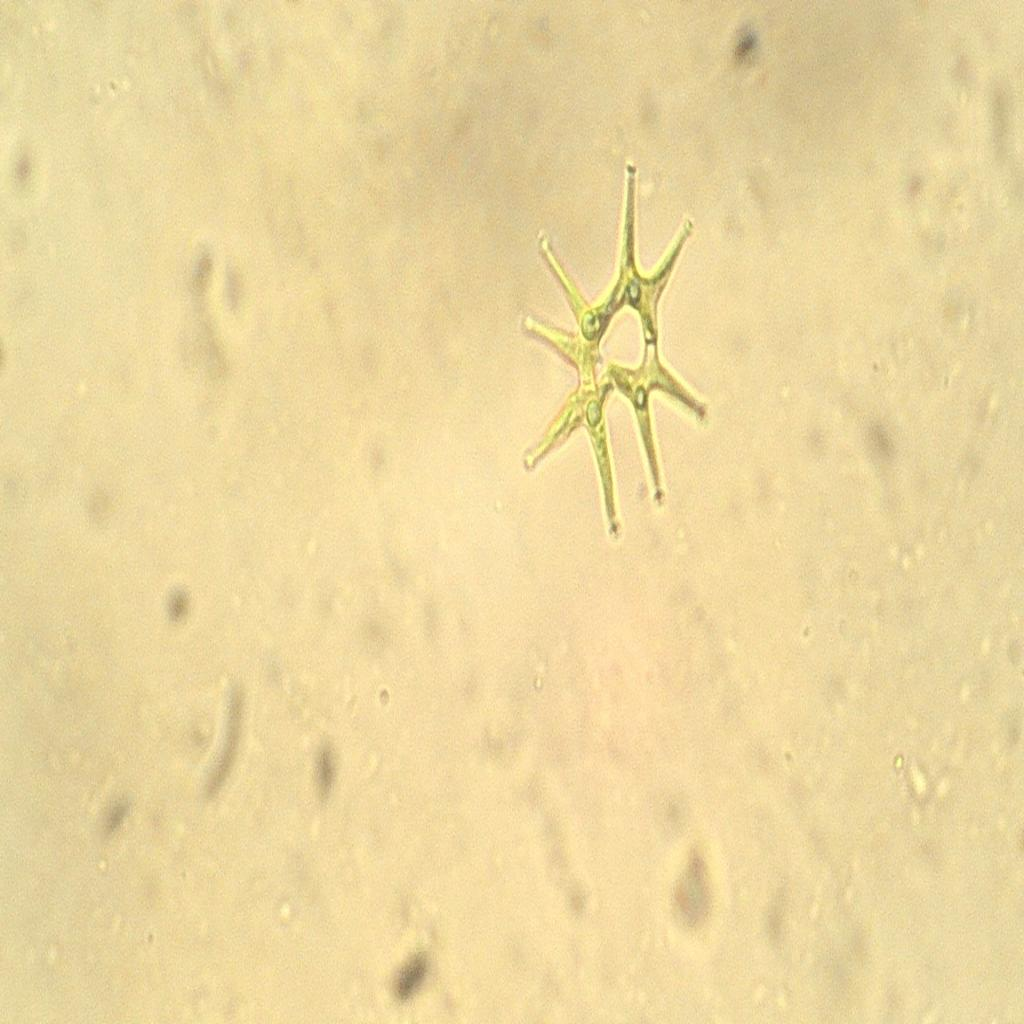Pediastrum_CF: (504, 146, 747, 546)
